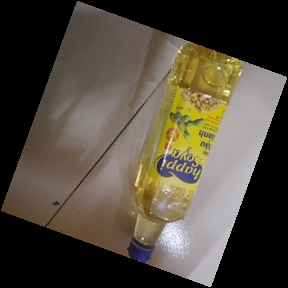Happy Soya: (126, 39, 244, 265)
